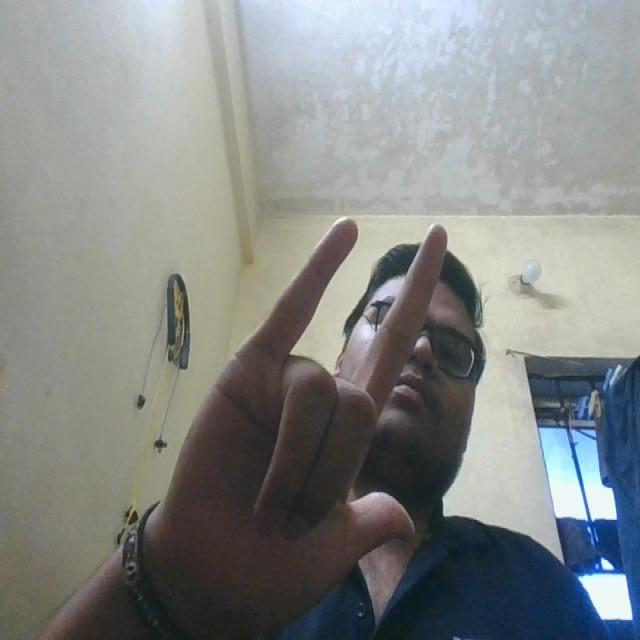iloveyou: (205, 184, 461, 594)
